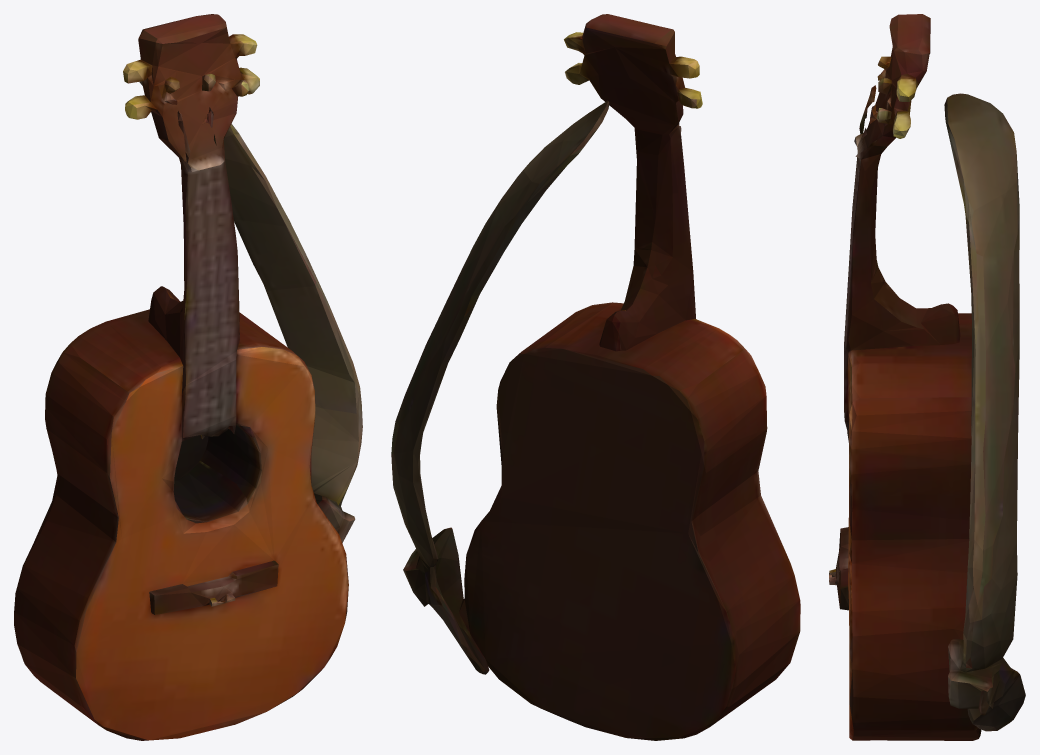
File: guitar.glb
3 views of the same model, side by side, from view 1: azimuth 30°, elevation 25°; view 2: azimuth 150°, elevation 25°; view 3: azimuth 270°, elevation 25° (orthographic).
Visible parts, largest first — view 1: geometry_0; view 2: geometry_0; view 3: geometry_0.
Boxes of the visible parts, x1,y1,x2,y2 form: geometry_0: (14, 14, 362, 740); geometry_0: (391, 14, 800, 740); geometry_0: (829, 14, 1025, 740).
Size of the model in its own units: 0.7299 by 1.39 by 0.3565.
Materials: 1 (1 with a texture image).
